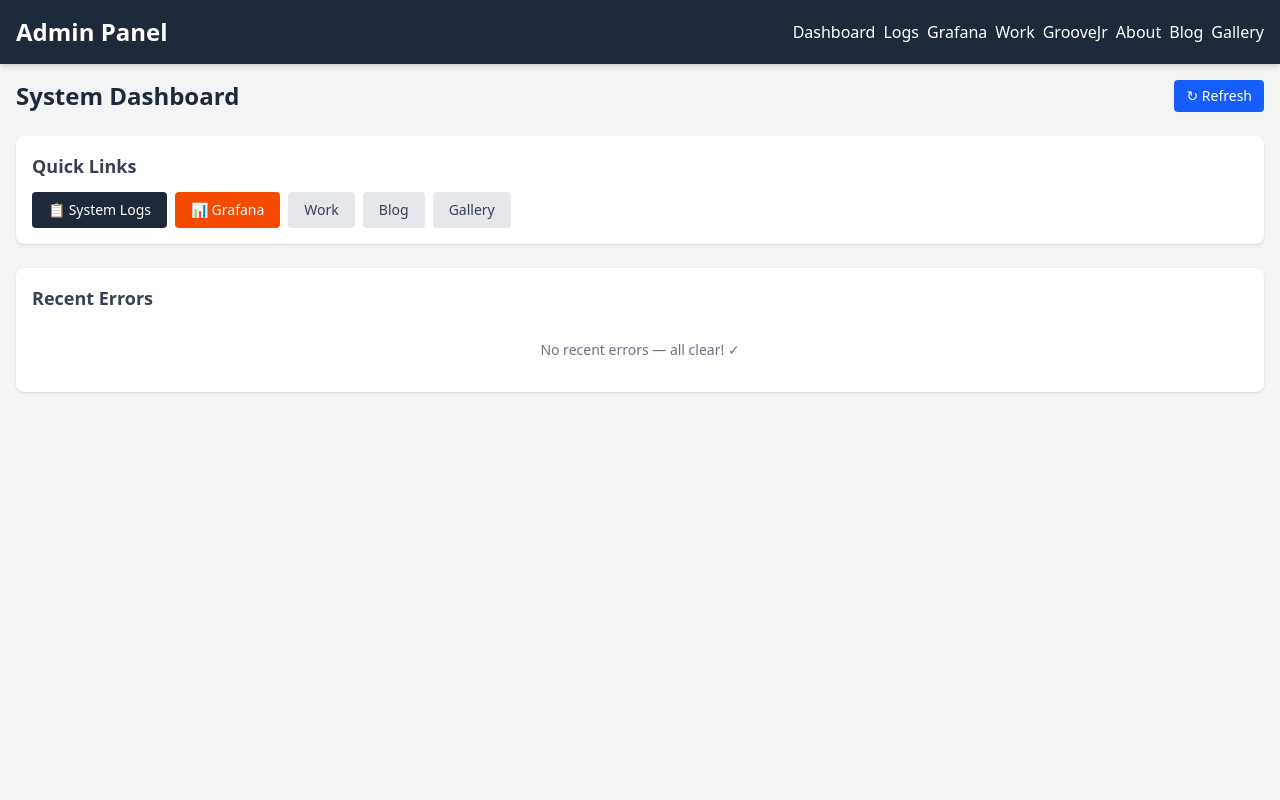
it: Admin App › should display logs page controls
Expected: the heading "Admin Panel" is shown, [16,16,168,48]
Click the link with test id "nav-admin-logs" at (902, 32), box [884,20,920,44]
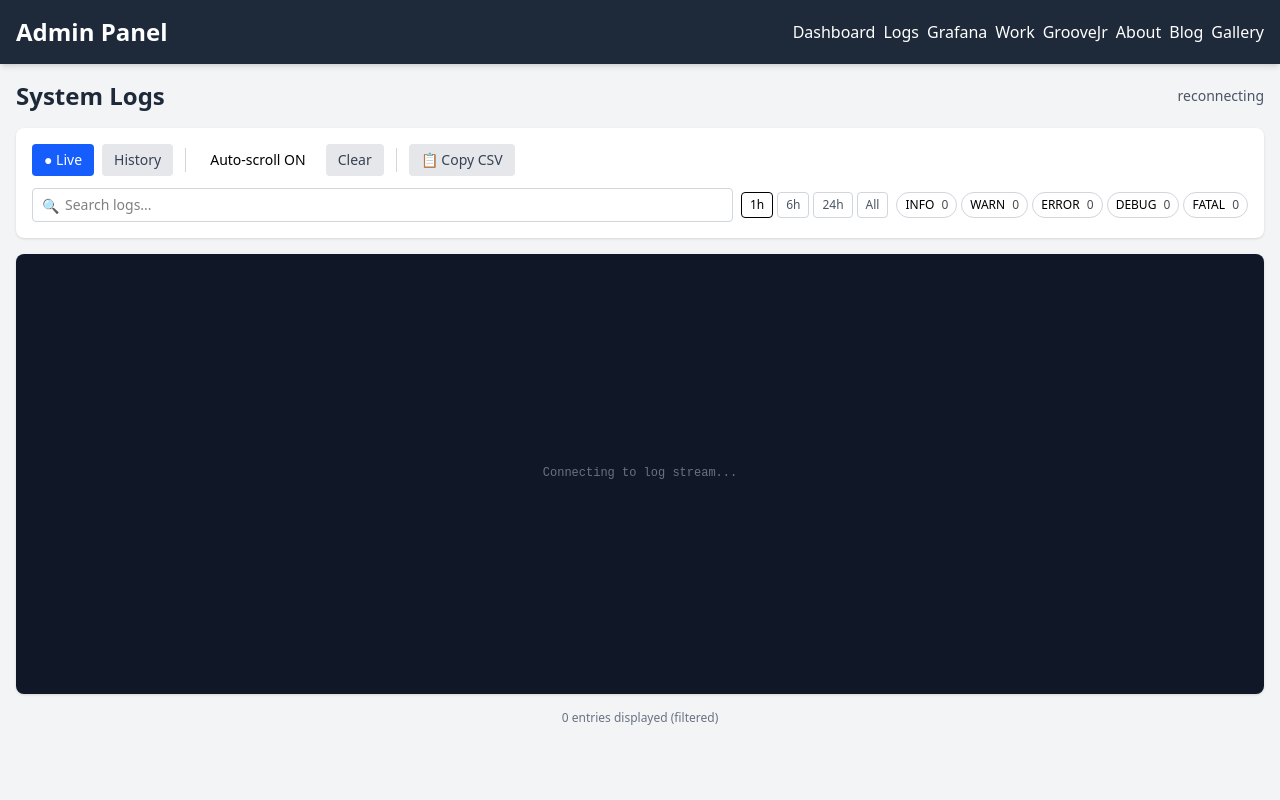
Expected: the button with test id "logs-live-btn" is shown, [32,144,94,176]
Expected: the button with test id "logs-history-btn" is shown, [102,144,173,176]
Expected: the button with test id "logs-autoscroll-btn" is shown, [198,144,318,176]
